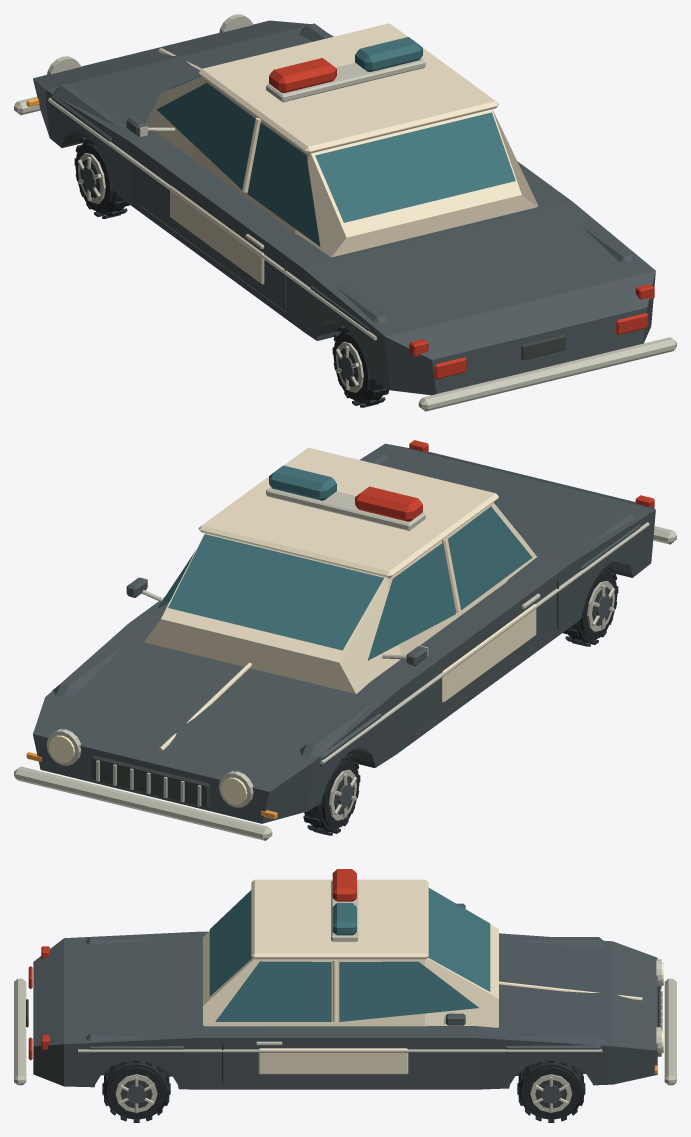
Rendered from police_detail.glb.
The picture shows the model from 3 angles, top to bottom: view 1: azimuth 30°, elevation 25°; view 2: azimuth 150°, elevation 25°; view 3: azimuth 270°, elevation 25°; orthographic projection. The views are drawn at different scales.
Visible parts, largest first — view 1: PoliceModel Copper enamel, PoliceModel Warm cream, PoliceModel Teal canopy, PoliceModel Warm alloy, PoliceModel Red lamp, Spin.001 Rubber charcoal, Spin Rubber charcoal, PoliceModel Dark grille, Spin Warm alloy, Spin.001 Warm alloy; view 2: PoliceModel Copper enamel, PoliceModel Warm cream, PoliceModel Teal canopy, PoliceModel Warm alloy, PoliceModel Dark grille, PoliceModel Red lamp, Spin Rubber charcoal, Spin.001 Rubber charcoal, PoliceModel Ivory lamp, Spin Warm alloy, Spin.001 Warm alloy; view 3: PoliceModel Copper enamel, PoliceModel Warm cream, PoliceModel Teal canopy, PoliceModel Warm alloy, Spin.003 Rubber charcoal, Spin.002 Rubber charcoal, PoliceModel Red lamp, Spin.002 Warm alloy, Spin.003 Warm alloy, PoliceModel Dark grille.
Boxes of the visible parts, x1=… form: PoliceModel Copper enamel: x1=33, y1=20, x2=655, y2=395; PoliceModel Warm cream: x1=145, y1=23, x2=538, y2=284; PoliceModel Teal canopy: x1=156, y1=37, x2=515, y2=246; PoliceModel Warm alloy: x1=14, y1=14, x2=676, y2=411; PoliceModel Red lamp: x1=269, y1=58, x2=654, y2=379; Spin.001 Rubber charcoal: x1=332, y1=326, x2=389, y2=407; Spin Rubber charcoal: x1=74, y1=136, x2=129, y2=218; PoliceModel Dark grille: x1=140, y1=206, x2=565, y2=360; Spin Warm alloy: x1=77, y1=153, x2=105, y2=203; Spin.001 Warm alloy: x1=335, y1=341, x2=363, y2=392; PoliceModel Copper enamel: x1=33, y1=443, x2=655, y2=823; PoliceModel Warm cream: x1=144, y1=447, x2=536, y2=751; PoliceModel Teal canopy: x1=157, y1=465, x2=532, y2=660; PoliceModel Warm alloy: x1=14, y1=487, x2=676, y2=840; PoliceModel Dark grille: x1=91, y1=580, x2=558, y2=808; PoliceModel Red lamp: x1=355, y1=440, x2=654, y2=521; Spin Rubber charcoal: x1=303, y1=753, x2=360, y2=835; Spin.001 Rubber charcoal: x1=563, y1=565, x2=618, y2=646; PoliceModel Ivory lamp: x1=49, y1=735, x2=247, y2=804; Spin Warm alloy: x1=329, y1=769, x2=357, y2=820; Spin.001 Warm alloy: x1=587, y1=581, x2=615, y2=631; PoliceModel Copper enamel: x1=33, y1=903, x2=657, y2=1089; PoliceModel Warm cream: x1=203, y1=879, x2=642, y2=1074; PoliceModel Teal canopy: x1=209, y1=888, x2=490, y2=1021; PoliceModel Warm alloy: x1=14, y1=880, x2=676, y2=1085; Spin.003 Rubber charcoal: x1=102, y1=1060, x2=170, y2=1122; Spin.002 Rubber charcoal: x1=517, y1=1060, x2=585, y2=1122; PoliceModel Red lamp: x1=28, y1=869, x2=356, y2=1060; Spin.002 Warm alloy: x1=530, y1=1074, x2=572, y2=1112; Spin.003 Warm alloy: x1=115, y1=1074, x2=157, y2=1112; PoliceModel Dark grille: x1=26, y1=986, x2=660, y2=1083.
Size of the model in its own units: 2.02 by 1.48 by 4.95.
